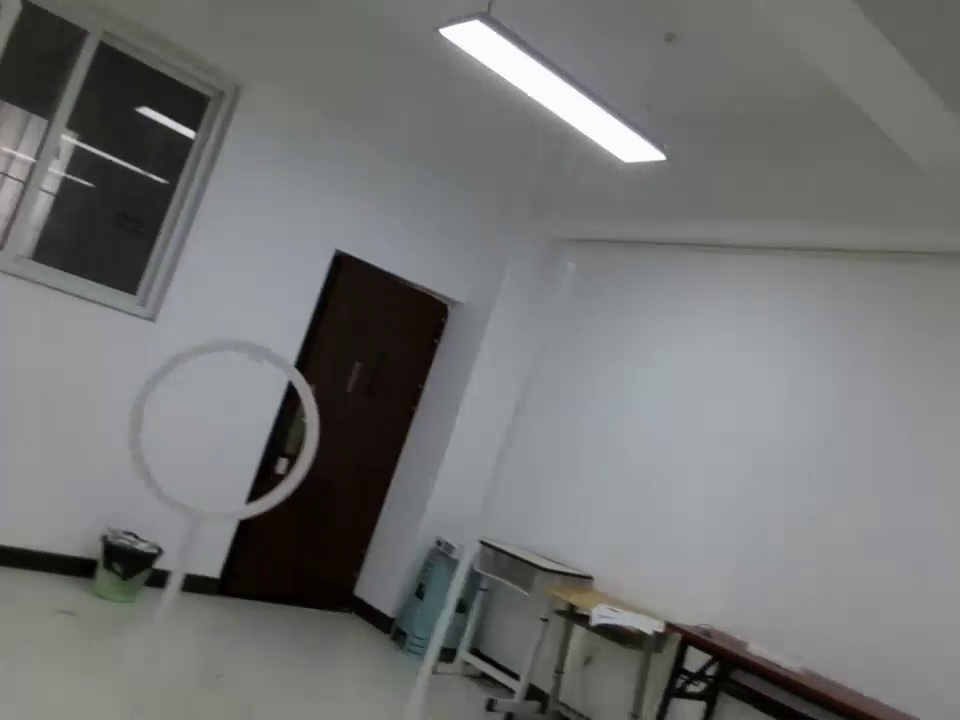quan: (124, 333, 324, 539)
